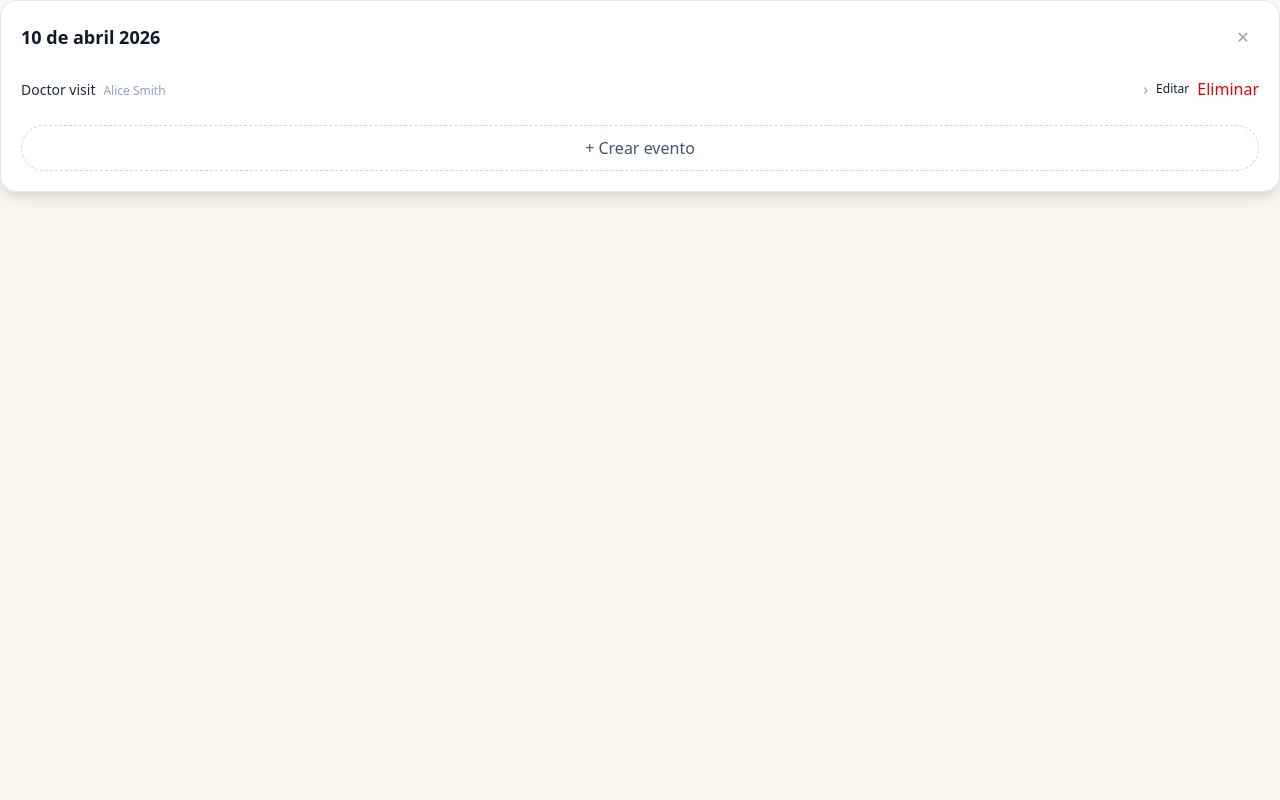
it: DayDetailPanel › closes the delete dialog when cancel is clicked
Click the button "Eliminar" at [1228, 89], box x1=1197 y1=77 x2=1259 y2=101
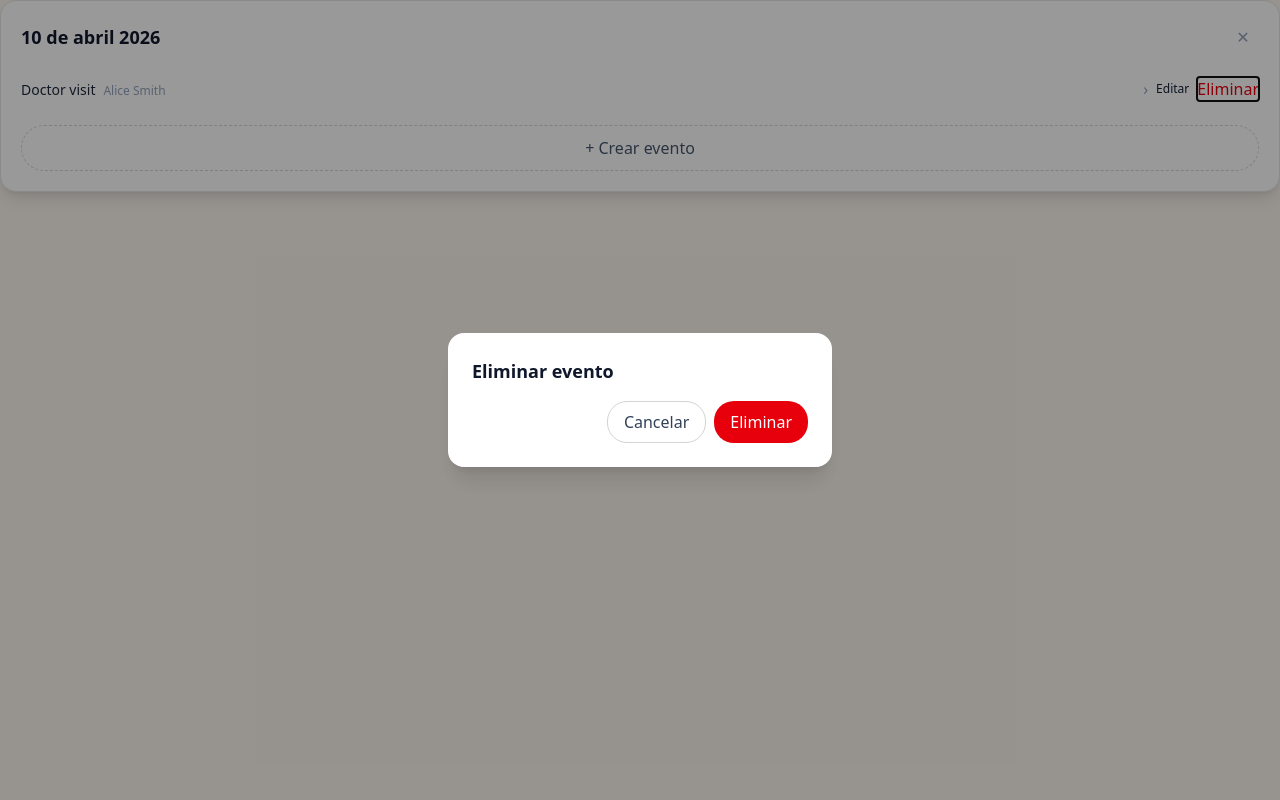
Check: the heading "Eliminar evento" is shown, box x1=472 y1=359 x2=614 y2=383
Click the button "Cancelar" at [657, 422], box x1=607 y1=401 x2=706 y2=443
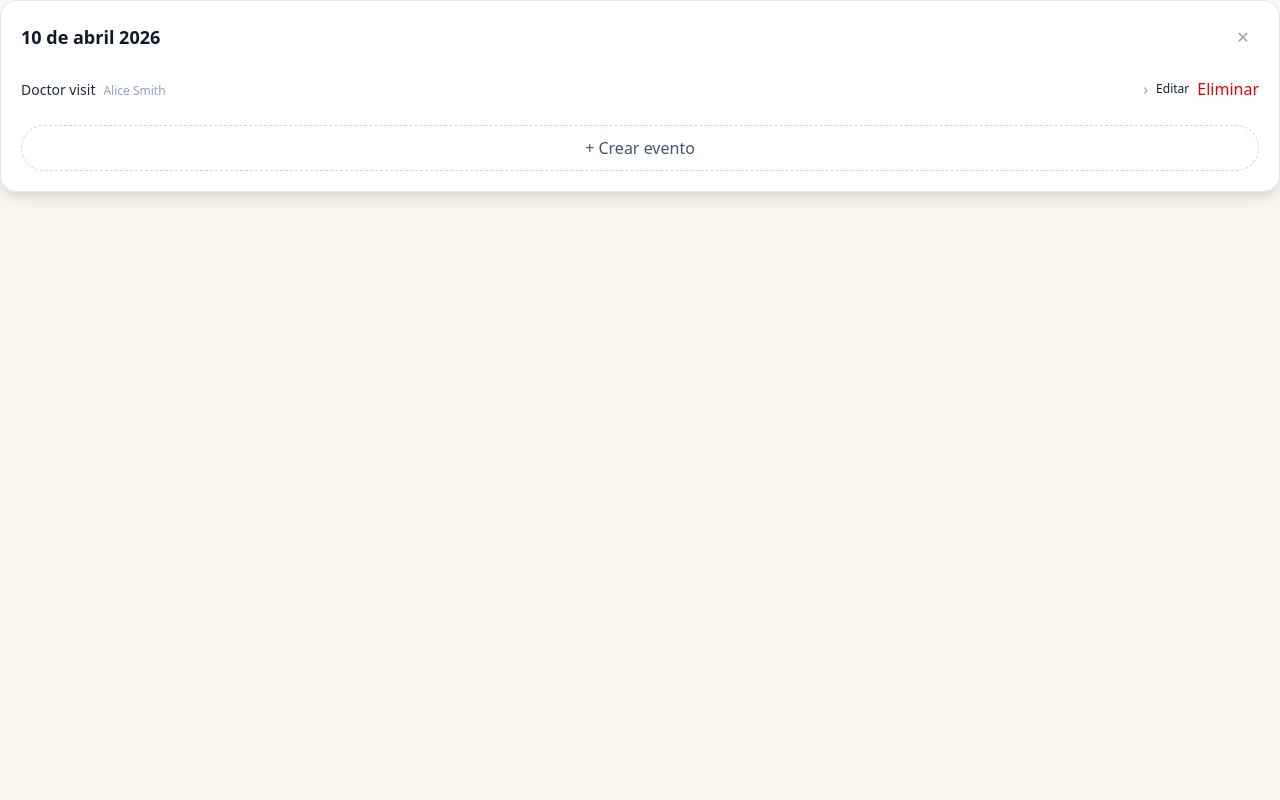
Check: the heading "Eliminar evento" is gone
